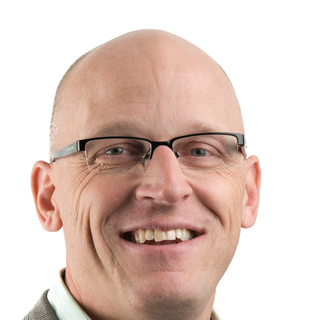eye: (181, 142, 224, 165), (97, 143, 136, 160)
